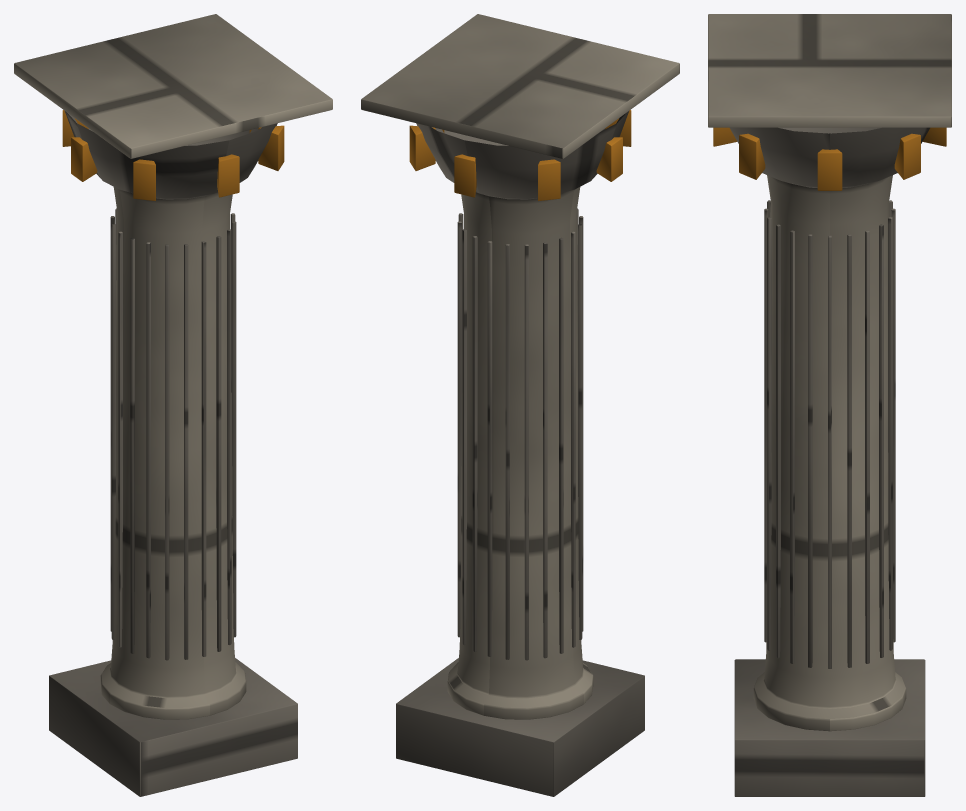
File: prop_pillar.glb
The picture shows the model from 3 angles, left to right: view 1: azimuth 30°, elevation 25°; view 2: azimuth 150°, elevation 25°; view 3: azimuth 270°, elevation 25°; orthographic projection. The views are drawn at different scales.
Visible parts, largest first — view 1: prop_pillar; view 2: prop_pillar; view 3: prop_pillar.
Boxes of the visible parts, x1,y1,x2,y2 form: prop_pillar: (14,14,332,796); prop_pillar: (361,14,679,796); prop_pillar: (708,14,951,796).
Size of the model in its own units: 1.15 by 3.6 by 1.15.
Materials: 3 (3 with a texture image).
